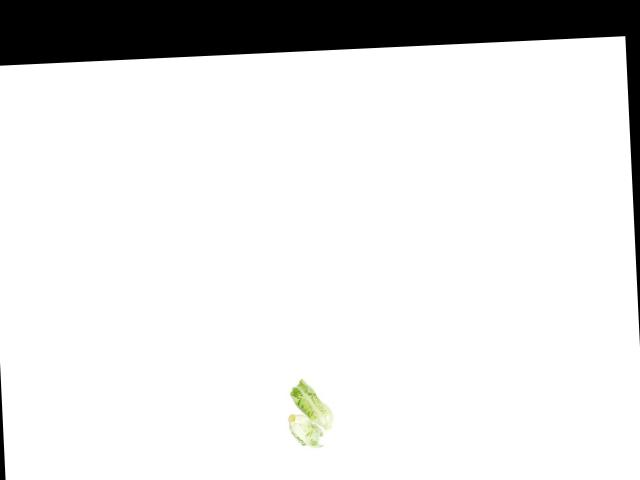lettuce: (282, 410, 325, 451)
